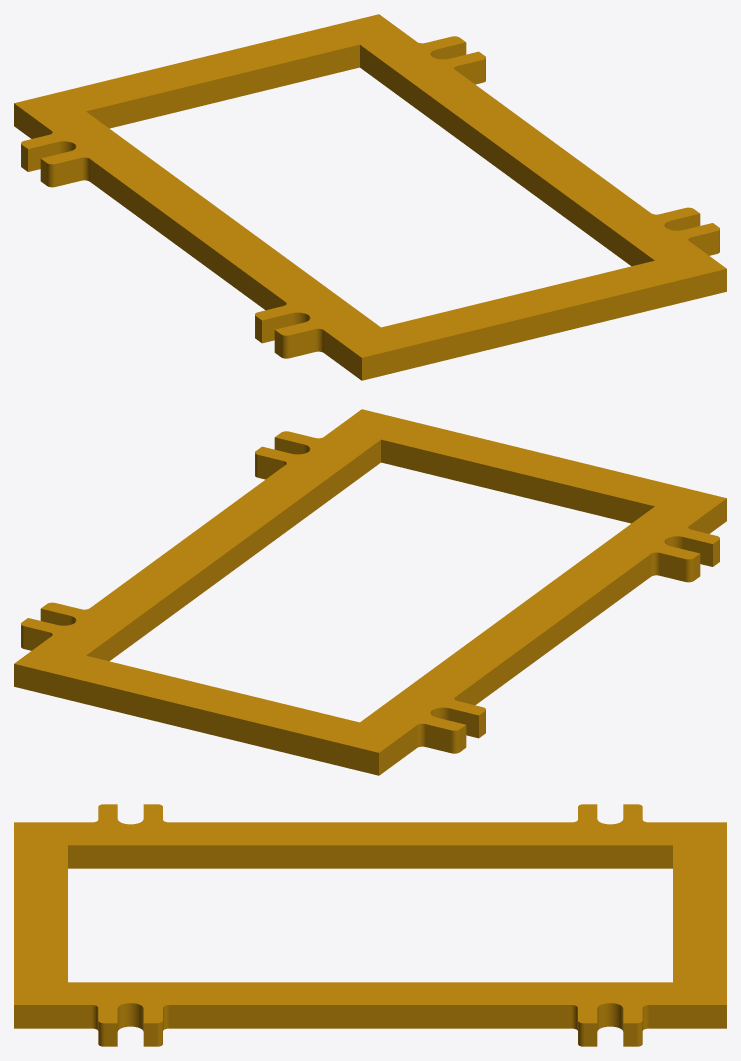
3 views of the same model, one above another, from view 1: azimuth 30°, elevation 25°; view 2: azimuth 150°, elevation 25°; view 3: azimuth 270°, elevation 25° (orthographic). The views are drawn at different scales.
Parts seen in each view (by area): view 1: Body1; view 2: Body1; view 3: Body1.
Boxes of the visible parts, box(x1,y1,x2,y2) form: Body1: box(14, 14, 726, 380); Body1: box(14, 409, 726, 775); Body1: box(14, 804, 726, 1046).
Size of the model in its own units: 24 by 1.2 by 33.
